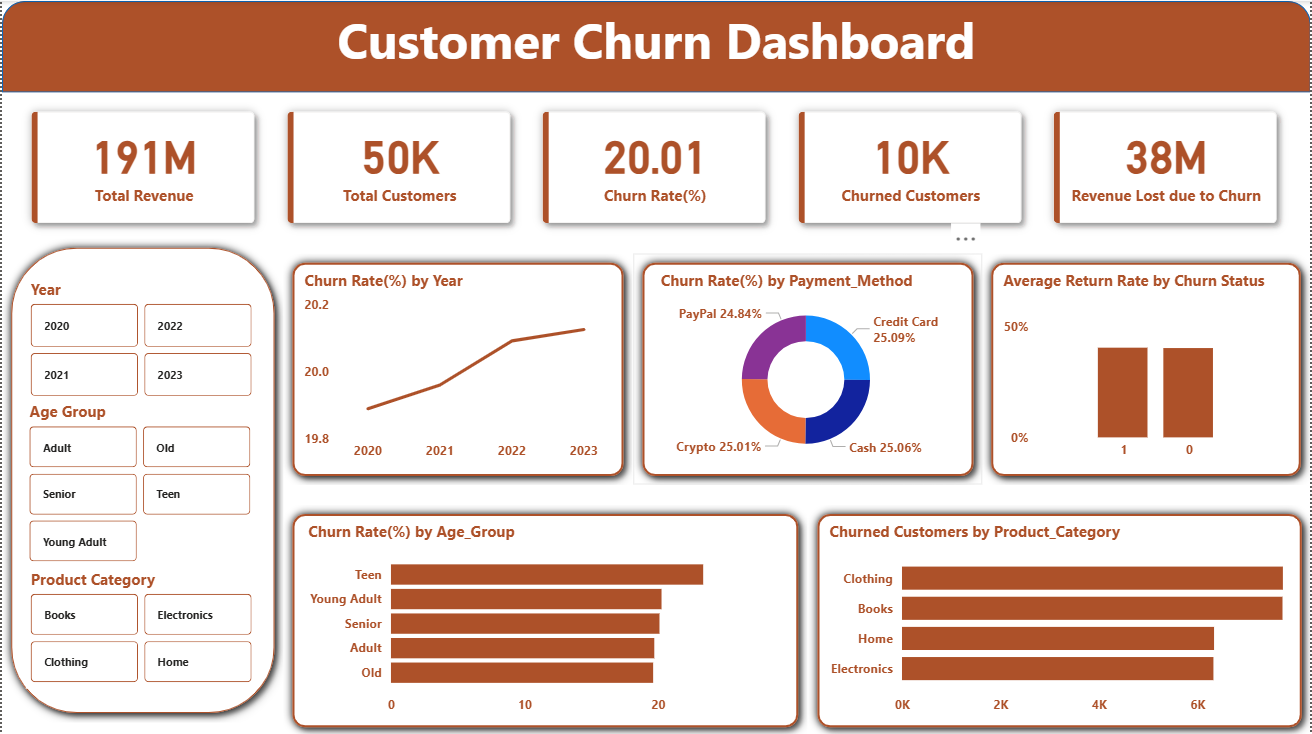

This screenshot's page, from the dashboard's own definition file:
{"tool":"powerbi","page":{"name":"Dashboard","canvas":[1280,720],"ordinal":0},"visuals":[{"type":"cardVisual","fields":{"Data":["customer_churn_analysis customer_data.Total Revenue","customer_churn_analysis customer_data.Total Customers","customer_churn_analysis customer_data.Churn Rate(%)","customer_churn_analysis customer_data.Churned Customers","customer_churn_analysis customer_data.Revenue Lost due to Churn"]},"box":[0,79.1,1280.2,167.4],"z":0},{"type":"shape","box":[0,0,1280.2,89.5],"z":1000},{"type":"textbox","box":[0,0,1280.2,89.5],"z":2000},{"type":"shape","box":[275.6,493,512.8,226.7],"z":3000},{"type":"clusteredBarChart","fields":{"Category":["customer_churn_analysis customer_data.Age_Group"],"Y":["customer_churn_analysis customer_data.Churn Rate(%)"]},"box":[294.2,508.1,476.7,197.7],"z":4000},{"type":"shape","box":[788.4,493,491.9,226.7],"z":5000},{"type":"shape","box":[959.3,246.5,320.9,226.7],"z":6000},{"type":"shape","box":[617.4,246.5,341.9,226.7],"z":7000},{"type":"shape","box":[275.6,246.5,341.9,226.7],"z":8000},{"type":"clusteredBarChart","fields":{"Category":["customer_churn_analysis customer_data.Product_Category"],"Y":["customer_churn_analysis customer_data.Churned Customers"]},"box":[804.7,508.1,461.6,197.7],"z":9000},{"type":"lineChart","fields":{"Category":["customer_churn_analysis customer_data.Year"],"Y":["customer_churn_analysis customer_data.Churn Rate(%)"]},"box":[290.7,262.8,311.6,195.3],"z":10000},{"type":"donutChart","fields":{"Category":["customer_churn_analysis customer_data.Payment_Method"],"Y":["customer_churn_analysis customer_data.Churn Rate(%)"]},"box":[639.5,262.8,294.2,195.3],"z":11000},{"type":"clusteredColumnChart","title":"Average Return Rate by Churn Status","fields":{"Category":["customer_churn_analysis customer_data.Churn"],"Y":["Avg(customer_churn_analysis customer_data.Returns)"]},"box":[974.4,262.8,275.6,194.2],"z":12000},{"type":"shape","box":[0,232.6,275.6,473.3],"z":13000},{"type":"advancedSlicerVisual","fields":{"Values":["customer_churn_analysis customer_data.Year"]},"box":[23.3,270.9,226.7,120.9],"z":14000},{"type":"advancedSlicerVisual","fields":{"Values":["customer_churn_analysis customer_data.Age_Group"]},"box":[22.1,391.9,226.7,162.8],"z":15000},{"type":"advancedSlicerVisual","fields":{"Values":["customer_churn_analysis customer_data.Product_Category"]},"box":[23.3,554.7,226.7,117.4],"z":16000}]}

Visuals, with their boxes in screenshot pixels (x1, y1, x2, y2), scaled from the page's 1280x720 canvas onto the 1312x734 screenshot:
cardVisual - customer_churn_analysis customer_data.Total Revenue x customer_churn_analysis customer_data.Total Customers: <bbox>0, 81, 1311, 251</bbox>
shape: <bbox>0, 0, 1311, 91</bbox>
textbox: <bbox>0, 0, 1311, 91</bbox>
shape: <bbox>282, 503, 808, 733</bbox>
clusteredBarChart - customer_churn_analysis customer_data.Age_Group x customer_churn_analysis customer_data.Churn Rate(%): <bbox>302, 518, 790, 720</bbox>
shape: <bbox>808, 503, 1311, 733</bbox>
shape: <bbox>983, 251, 1311, 482</bbox>
shape: <bbox>633, 251, 983, 482</bbox>
shape: <bbox>282, 251, 633, 482</bbox>
clusteredBarChart - customer_churn_analysis customer_data.Product_Category x customer_churn_analysis customer_data.Churned Customers: <bbox>825, 518, 1298, 720</bbox>
lineChart - customer_churn_analysis customer_data.Year x customer_churn_analysis customer_data.Churn Rate(%): <bbox>298, 268, 617, 467</bbox>
donutChart - customer_churn_analysis customer_data.Payment_Method x customer_churn_analysis customer_data.Churn Rate(%): <bbox>655, 268, 957, 467</bbox>
"Average Return Rate by Churn Status" clusteredColumnChart: <bbox>999, 268, 1281, 466</bbox>
shape: <bbox>0, 237, 282, 720</bbox>
advancedSlicerVisual - customer_churn_analysis customer_data.Year: <bbox>24, 276, 256, 399</bbox>
advancedSlicerVisual - customer_churn_analysis customer_data.Age_Group: <bbox>23, 400, 255, 565</bbox>
advancedSlicerVisual - customer_churn_analysis customer_data.Product_Category: <bbox>24, 565, 256, 685</bbox>
